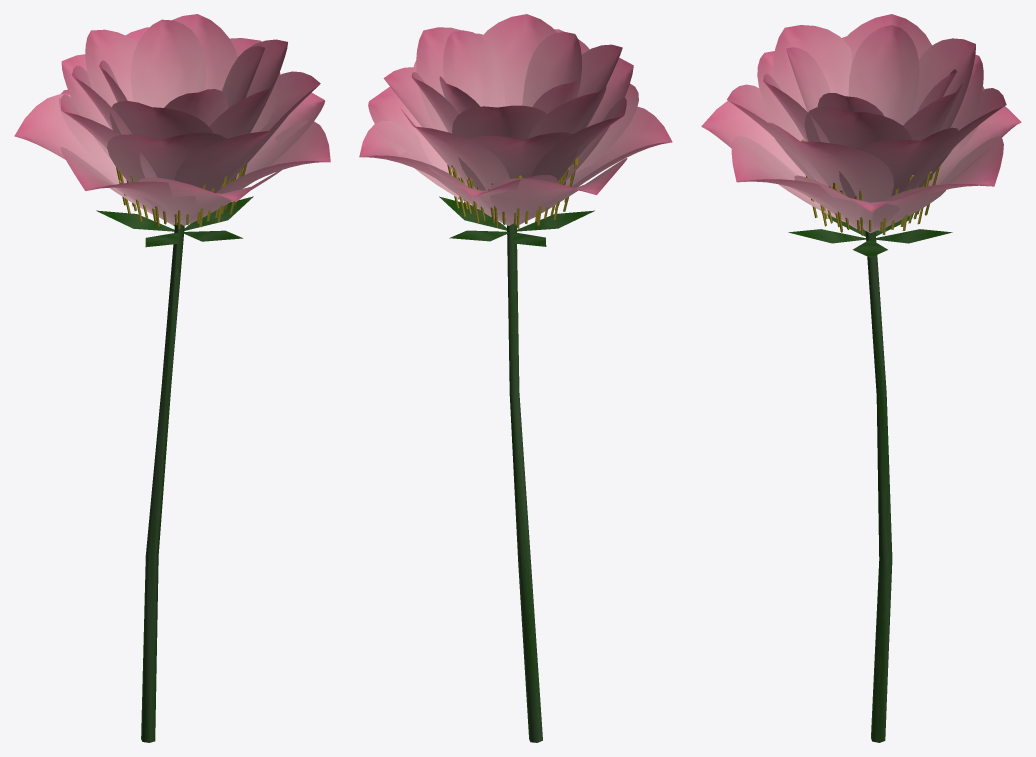
Rendered from lotus_half_lod0.glb.
3 views of the same model, side by side, from view 1: azimuth 30°, elevation 25°; view 2: azimuth 150°, elevation 25°; view 3: azimuth 270°, elevation 25° (orthographic). The views are drawn at different scales.
Parts seen in each view (by area): view 1: lotus_half_L0__petal, lotus_half_L0__leaf, lotus_half_L0__seed; view 2: lotus_half_L0__petal, lotus_half_L0__leaf, lotus_half_L0__seed; view 3: lotus_half_L0__petal, lotus_half_L0__leaf, lotus_half_L0__seed.
Part boxes in pixels (x1,y1,x2,y2): lotus_half_L0__petal: (14,14,330,225); lotus_half_L0__leaf: (96,196,253,742); lotus_half_L0__seed: (116,164,247,228); lotus_half_L0__petal: (359,14,672,225); lotus_half_L0__leaf: (439,196,594,742); lotus_half_L0__seed: (447,157,578,228); lotus_half_L0__petal: (701,14,1021,233); lotus_half_L0__leaf: (788,213,952,742); lotus_half_L0__seed: (801,139,940,235).
Size of the model in its own units: 0.6269 by 1.49 by 0.625.
Materials: 3 (3 with a texture image).
